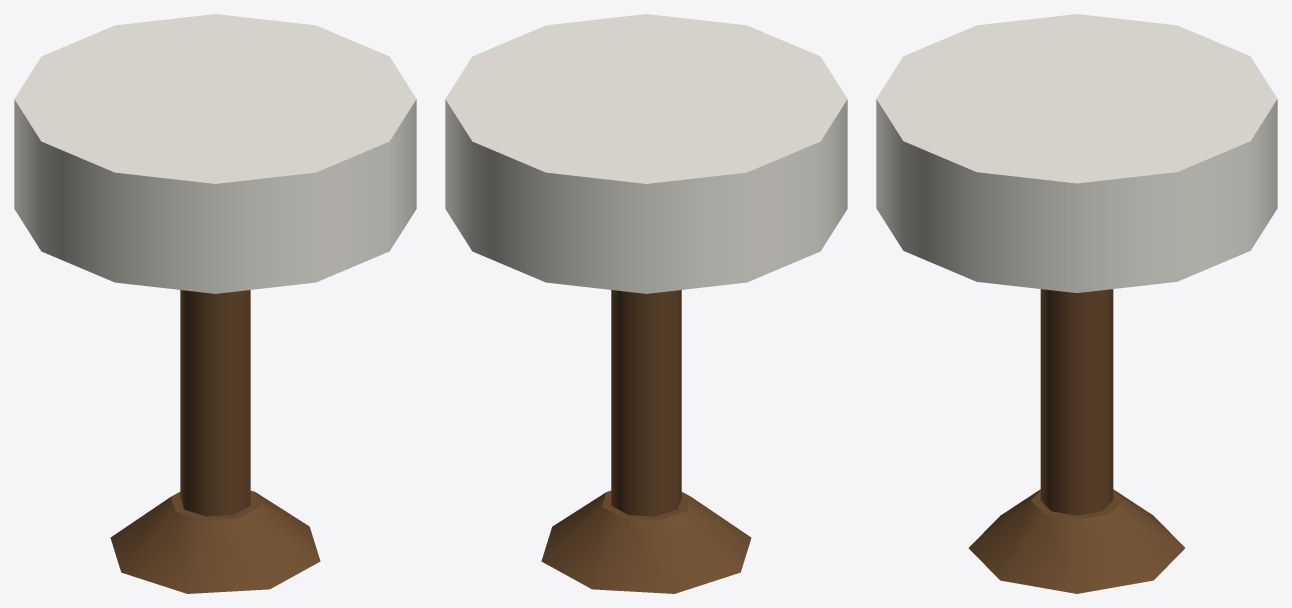
3 views of the same model, side by side, from view 1: azimuth 30°, elevation 25°; view 2: azimuth 150°, elevation 25°; view 3: azimuth 270°, elevation 25° (orthographic).
Parts seen in each view (by area): view 1: parametric-variant-round-table-1st-pub-9b763aabc1e4879c1549; view 2: parametric-variant-round-table-1st-pub-9b763aabc1e4879c1549; view 3: parametric-variant-round-table-1st-pub-9b763aabc1e4879c1549.
Part boxes in pixels (x1,y1,x2,y2): parametric-variant-round-table-1st-pub-9b763aabc1e4879c1549: [14, 14, 416, 593]; parametric-variant-round-table-1st-pub-9b763aabc1e4879c1549: [445, 14, 847, 593]; parametric-variant-round-table-1st-pub-9b763aabc1e4879c1549: [876, 14, 1277, 593].
Size of the model in its own units: 0.61 by 0.754 by 0.61.
